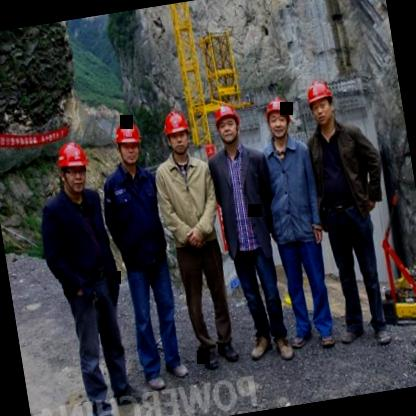helmet: (52, 139, 94, 200), (300, 74, 340, 134), (107, 118, 145, 173), (156, 107, 194, 159), (258, 91, 294, 143), (208, 100, 245, 147)
